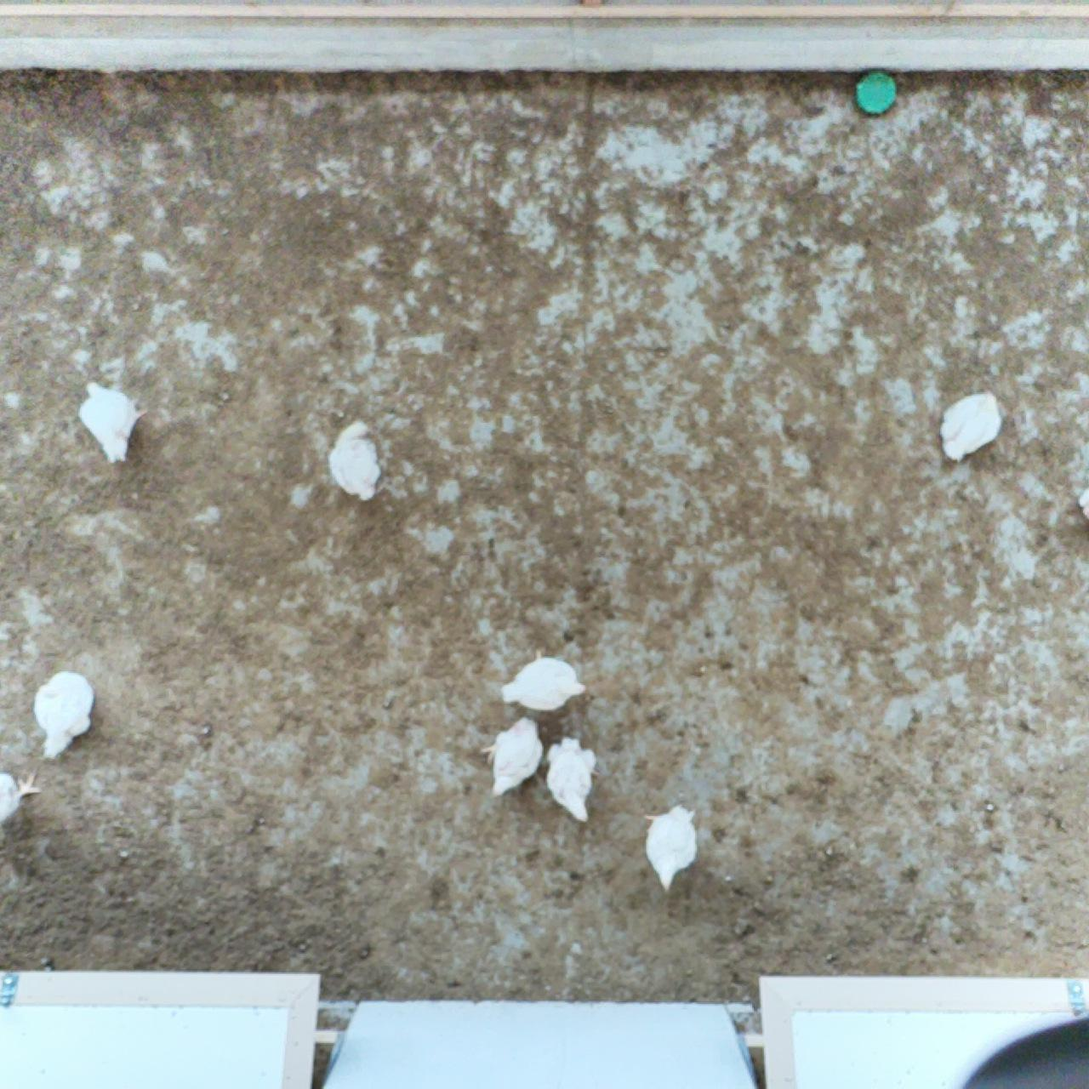chicken: (75, 377, 150, 470), (497, 643, 590, 718), (928, 383, 1009, 463), (641, 801, 706, 896), (33, 671, 98, 765), (324, 414, 387, 508), (477, 714, 544, 802), (544, 731, 604, 829), (0, 767, 46, 833)
